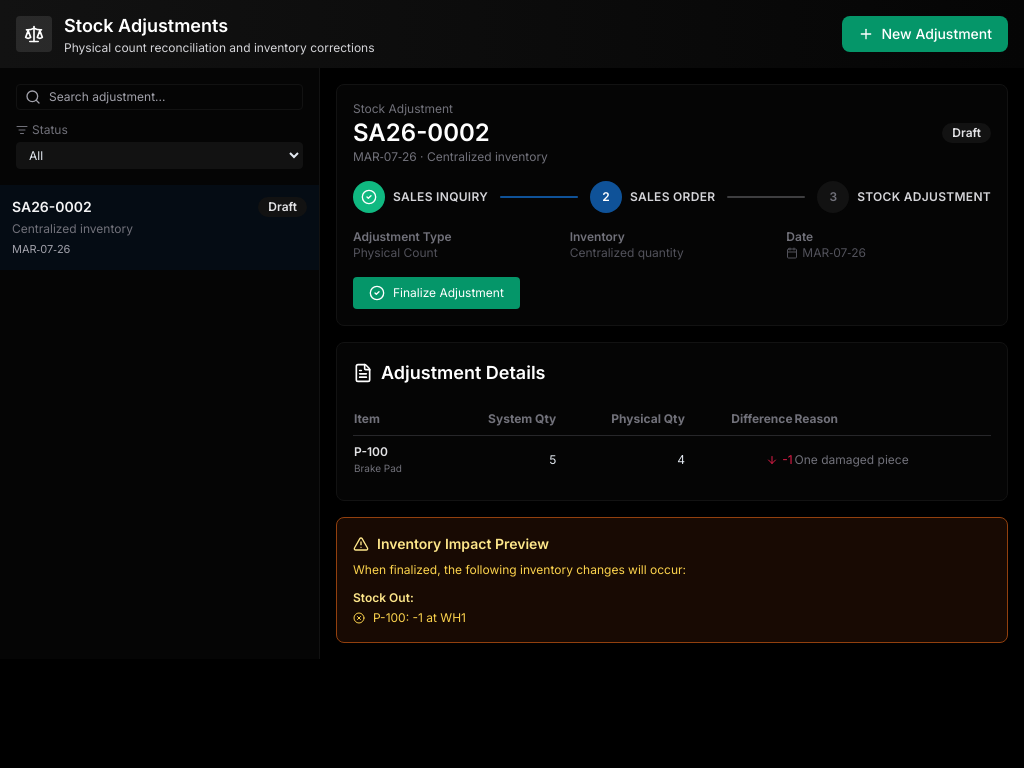
it: StockAdjustmentView › finalizes a draft adjustment and refreshes the list
Expected: the text "SA26-0002" is shown, [12,197,92,217]
Click the button "Finalize Adjustment" at x=436, y=293, box [353,277,520,309]
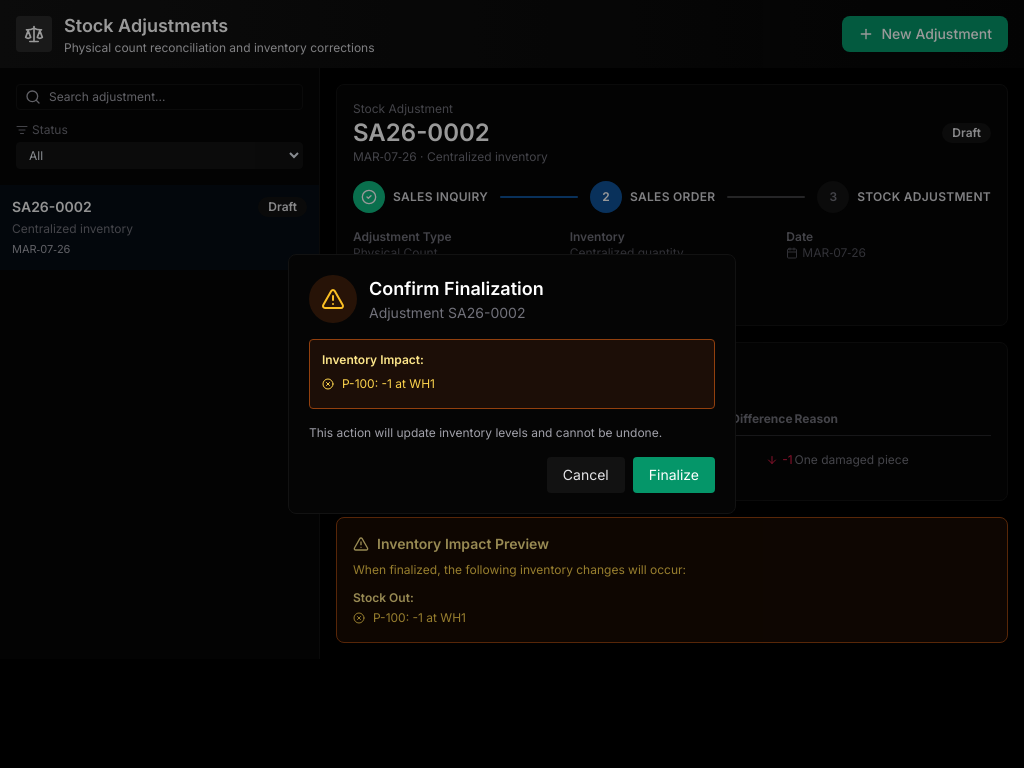
Click the button "Finalize" at x=674, y=475, box [633,457,715,493]
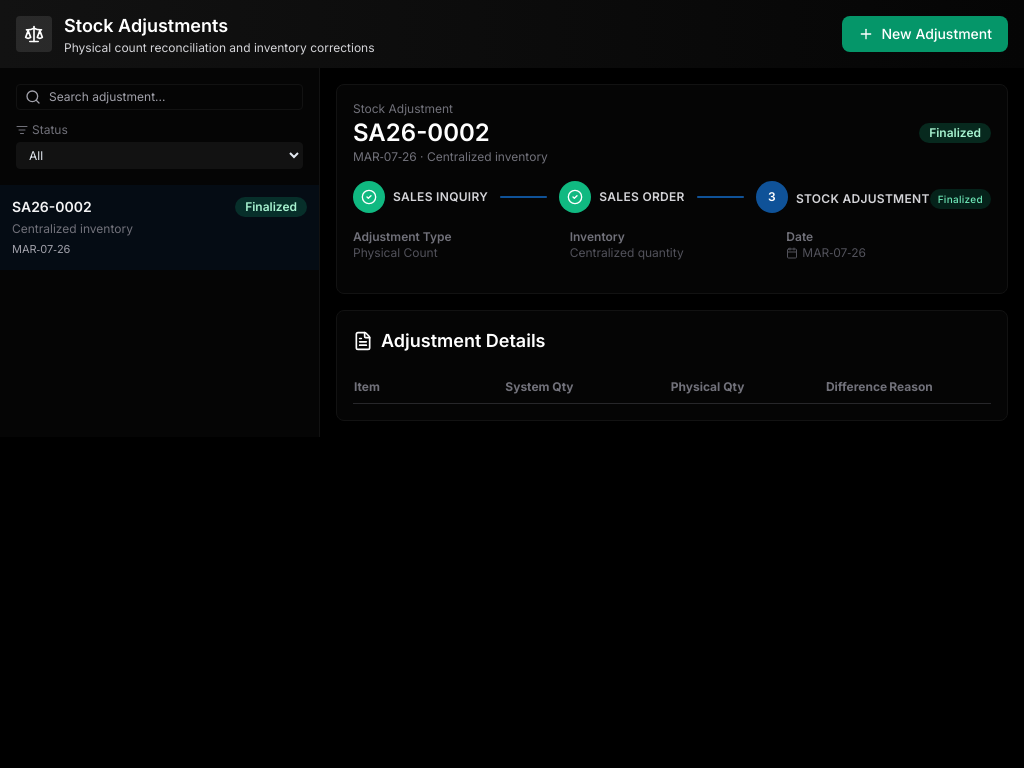
Expected: the heading "Confirm Finalization" is gone
